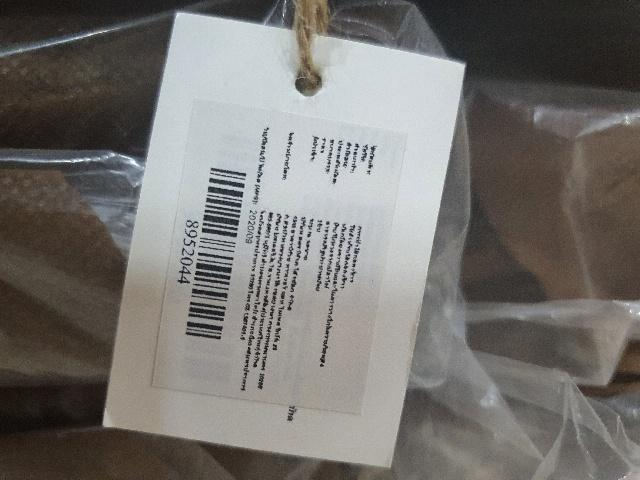Barcode: (173, 156, 252, 351)
